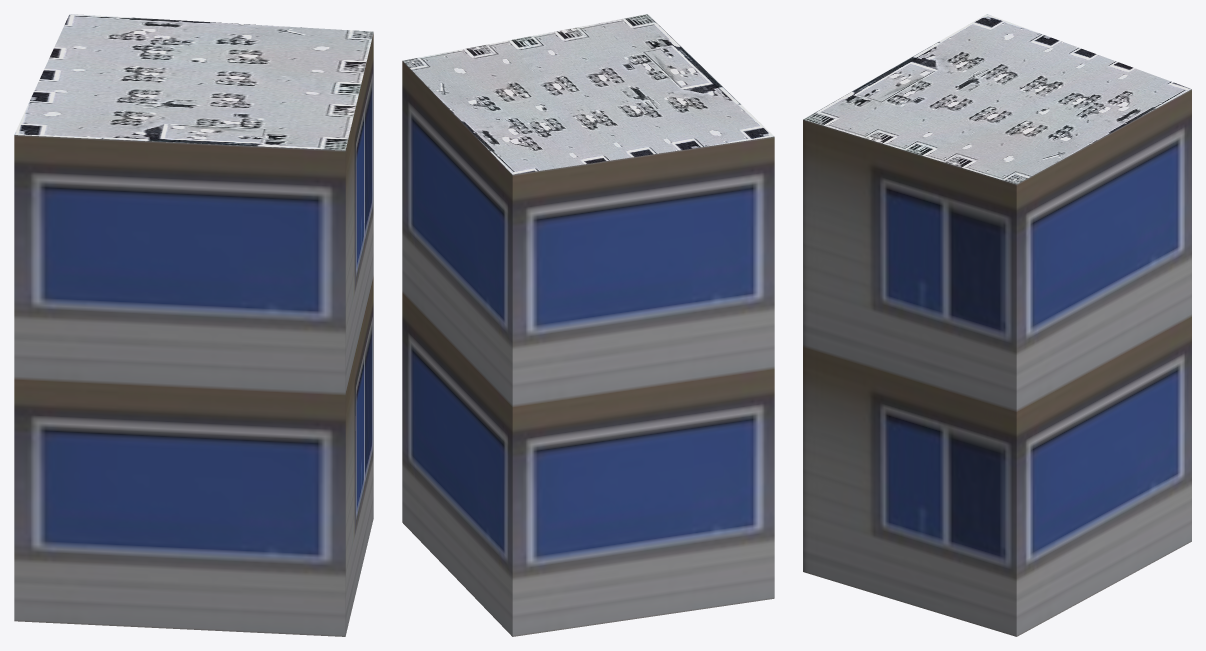
The model's file is ResTex__189.fbx.
The picture shows the model from 3 angles, left to right: view 1: azimuth 30°, elevation 25°; view 2: azimuth 150°, elevation 25°; view 3: azimuth 270°, elevation 25°; orthographic projection. The views are drawn at different scales.
Parts seen in each view (by area): view 1: CityEngineMaterial_23_m, CityEngineMaterial_m; view 2: CityEngineMaterial_23_m, CityEngineMaterial_m; view 3: CityEngineMaterial_23_m, CityEngineMaterial_m.
Boxes of the visible parts, bbox=[...] form: CityEngineMaterial_23_m: bbox=[14, 33, 373, 636]; CityEngineMaterial_m: bbox=[14, 14, 373, 150]; CityEngineMaterial_23_m: bbox=[402, 61, 774, 636]; CityEngineMaterial_m: bbox=[403, 14, 773, 174]; CityEngineMaterial_23_m: bbox=[803, 89, 1191, 636]; CityEngineMaterial_m: bbox=[803, 14, 1191, 184].
Bounding box in the file's own units: 4.85 × 6 × 4.67.
2 materials, 2 textured.
